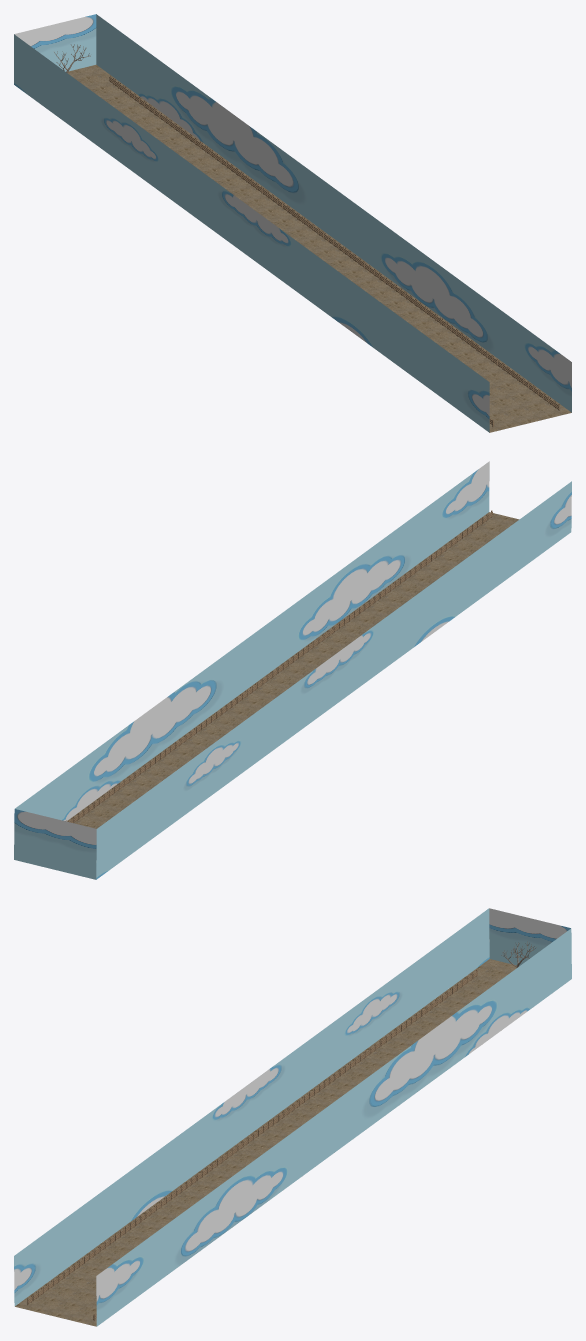
Rendered from WorldExample.glb.
3 renders of one model, top to bottom at view 1: azimuth 30°, elevation 25°; view 2: azimuth 150°, elevation 25°; view 3: azimuth 330°, elevation 25°, orthographic.
Parts seen in each view (by area): view 1: Walls, Floor, WoodenFence; view 2: Walls, Floor, WoodenFence; view 3: Walls, Floor, WoodenFence.
Boxes of the visible parts, box(x1,y1,x2,y2) form: Walls: box(14, 14, 571, 432); Floor: box(67, 64, 571, 432); WoodenFence: box(109, 75, 559, 427); Walls: box(14, 461, 571, 879); Floor: box(67, 512, 519, 828); WoodenFence: box(67, 510, 492, 823); Walls: box(14, 908, 571, 1326); Floor: box(15, 959, 519, 1326); WoodenFence: box(27, 969, 477, 1321).
Bounding box in the file's own units: 10.03 × 5.91 × 100.
Materials: 4 (4 with a texture image).
